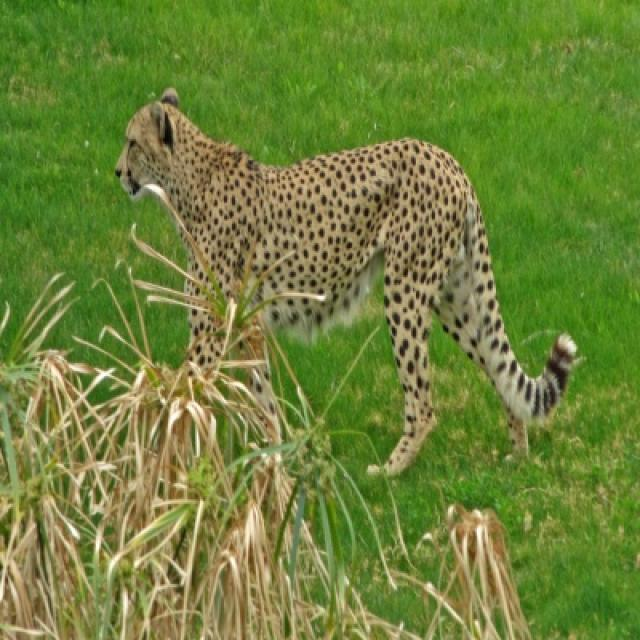Cheetah: (114, 88, 579, 477)
